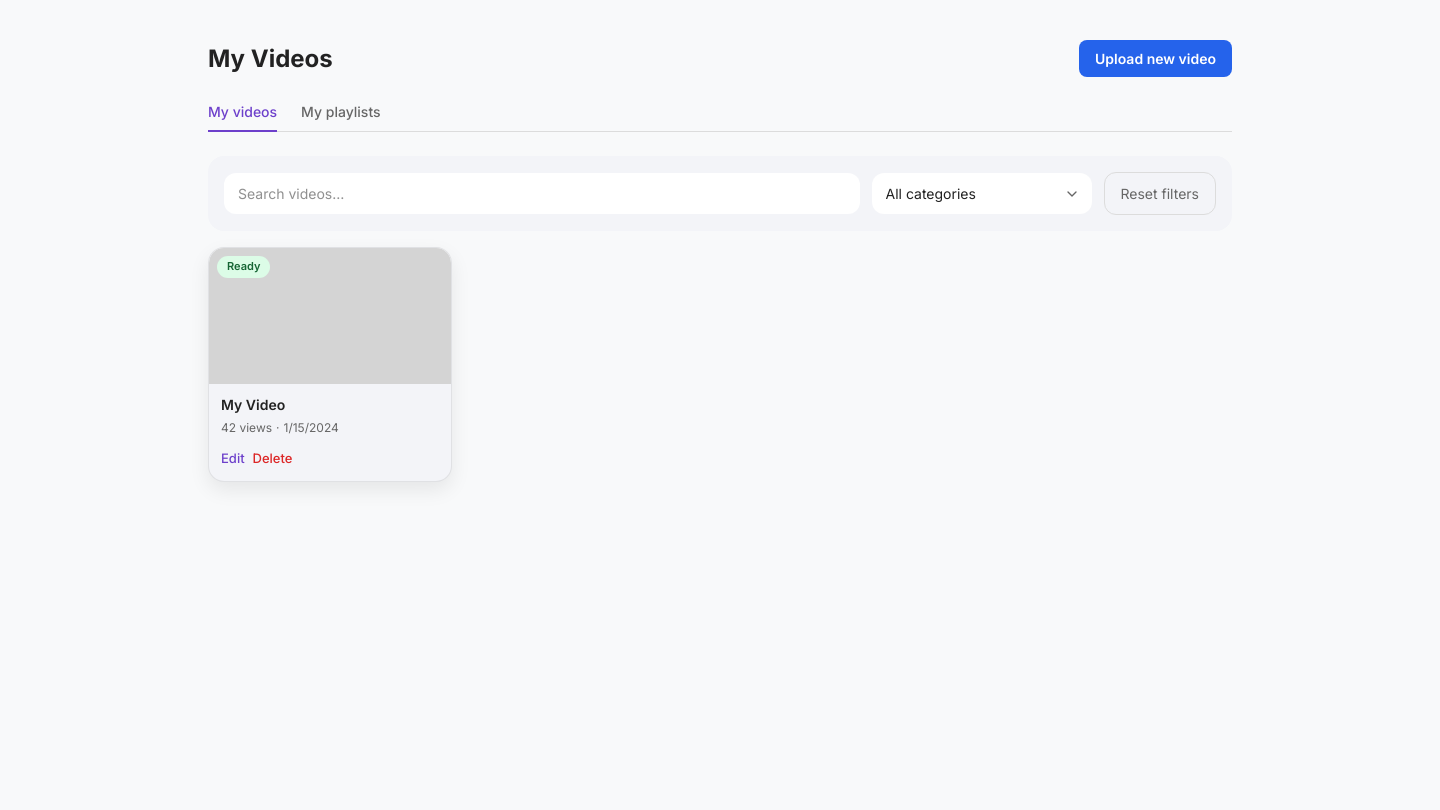
Scenario: DashboardPage › opens edit modal when Edit button is clicked
The image size is (1440, 810).
Click the button with aria-label "edit my video" at (233, 459), box [221, 449, 245, 468]
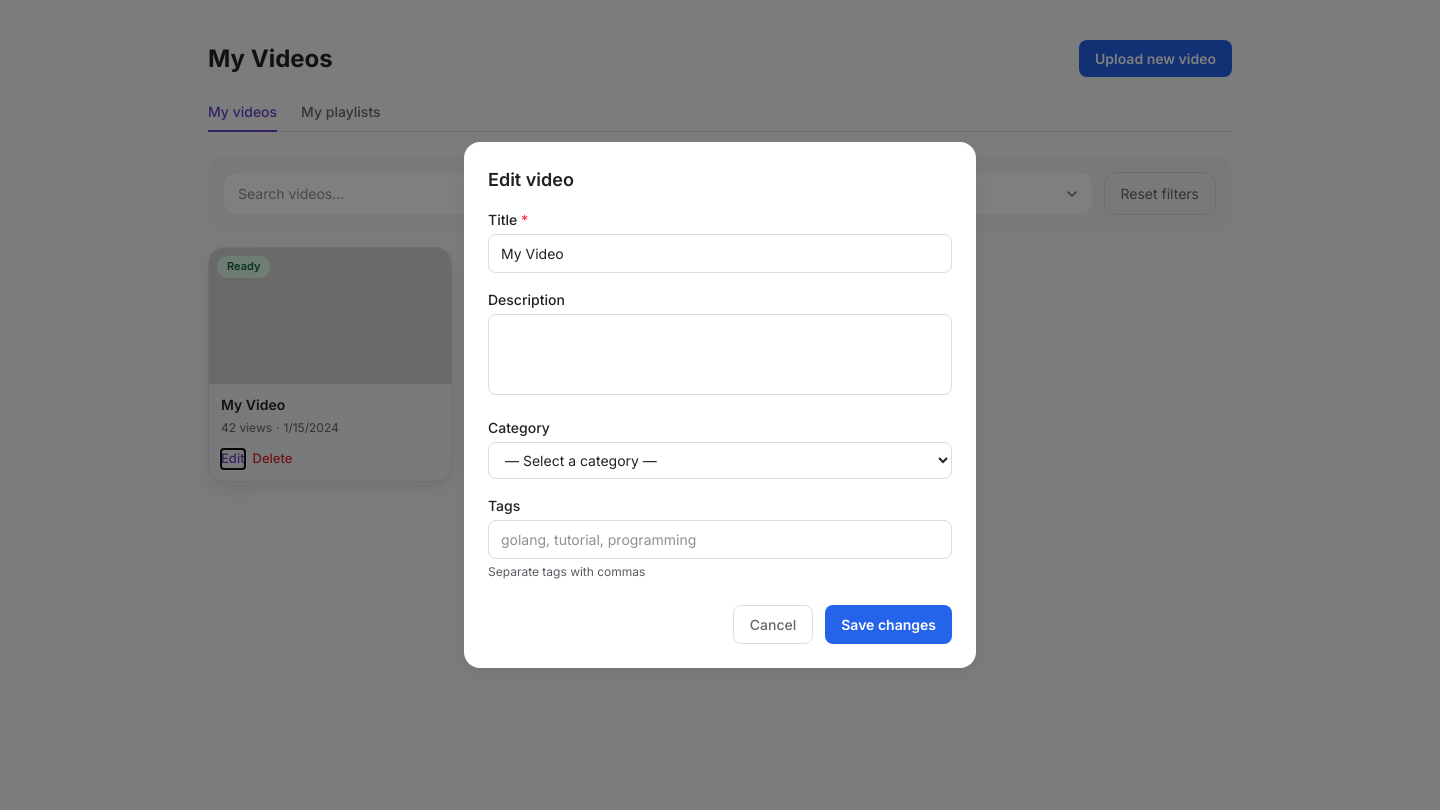
Check: the dialog is shown
Check: the heading "Edit video" is shown, box [488, 169, 574, 190]
